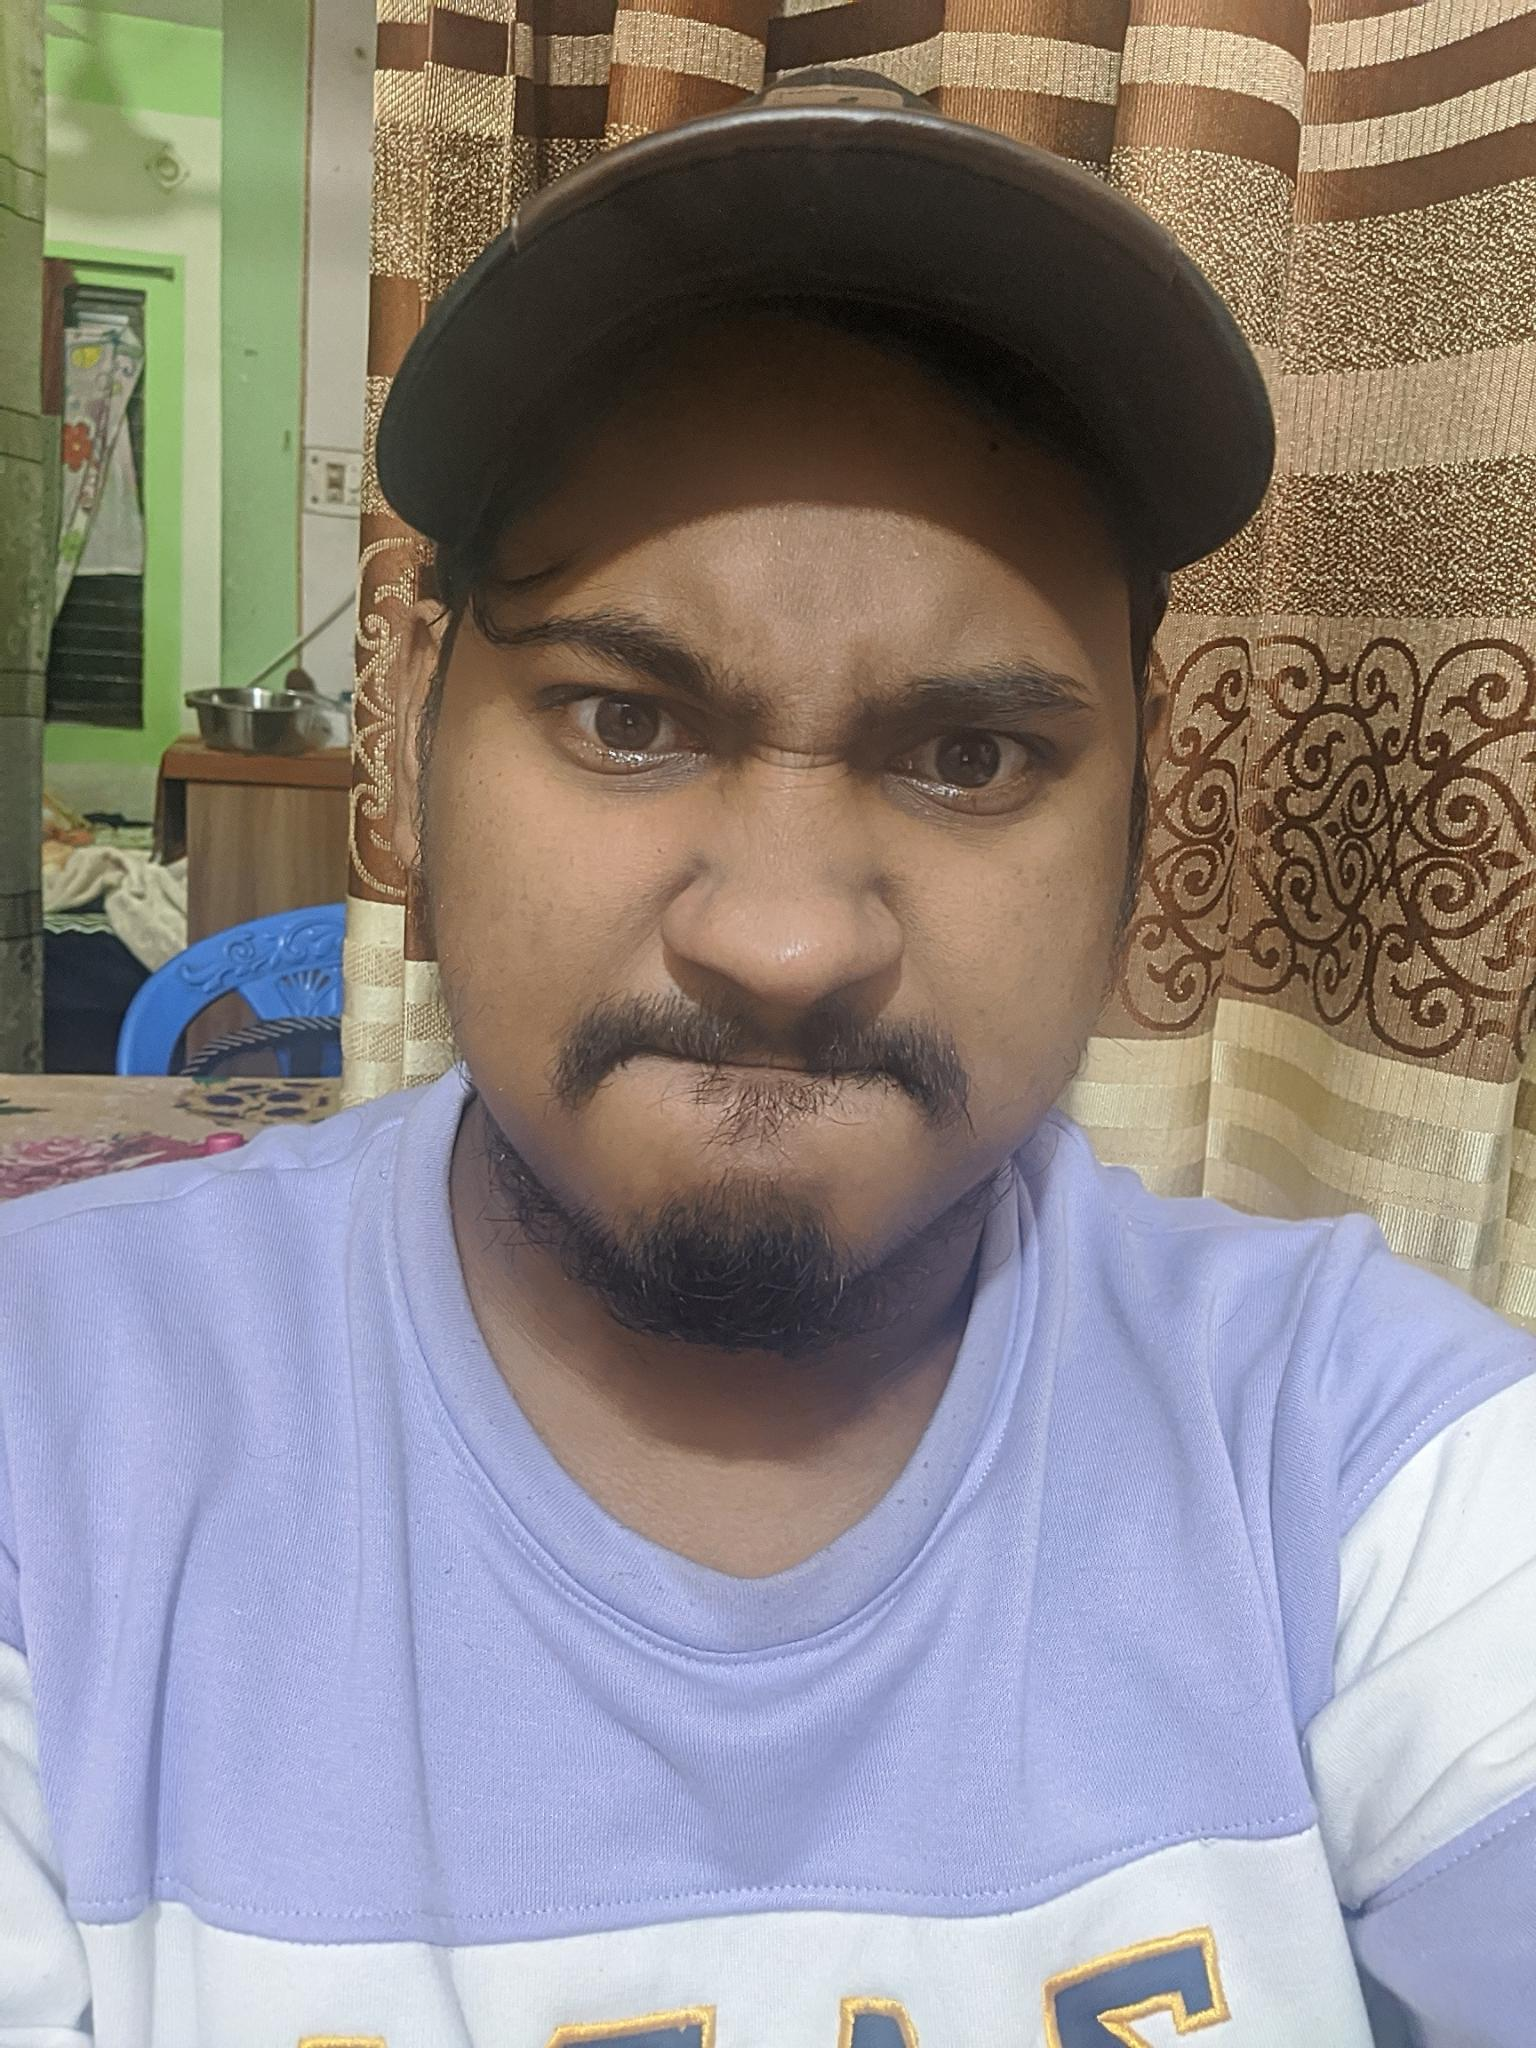Angry: (442, 516, 1126, 1243)
